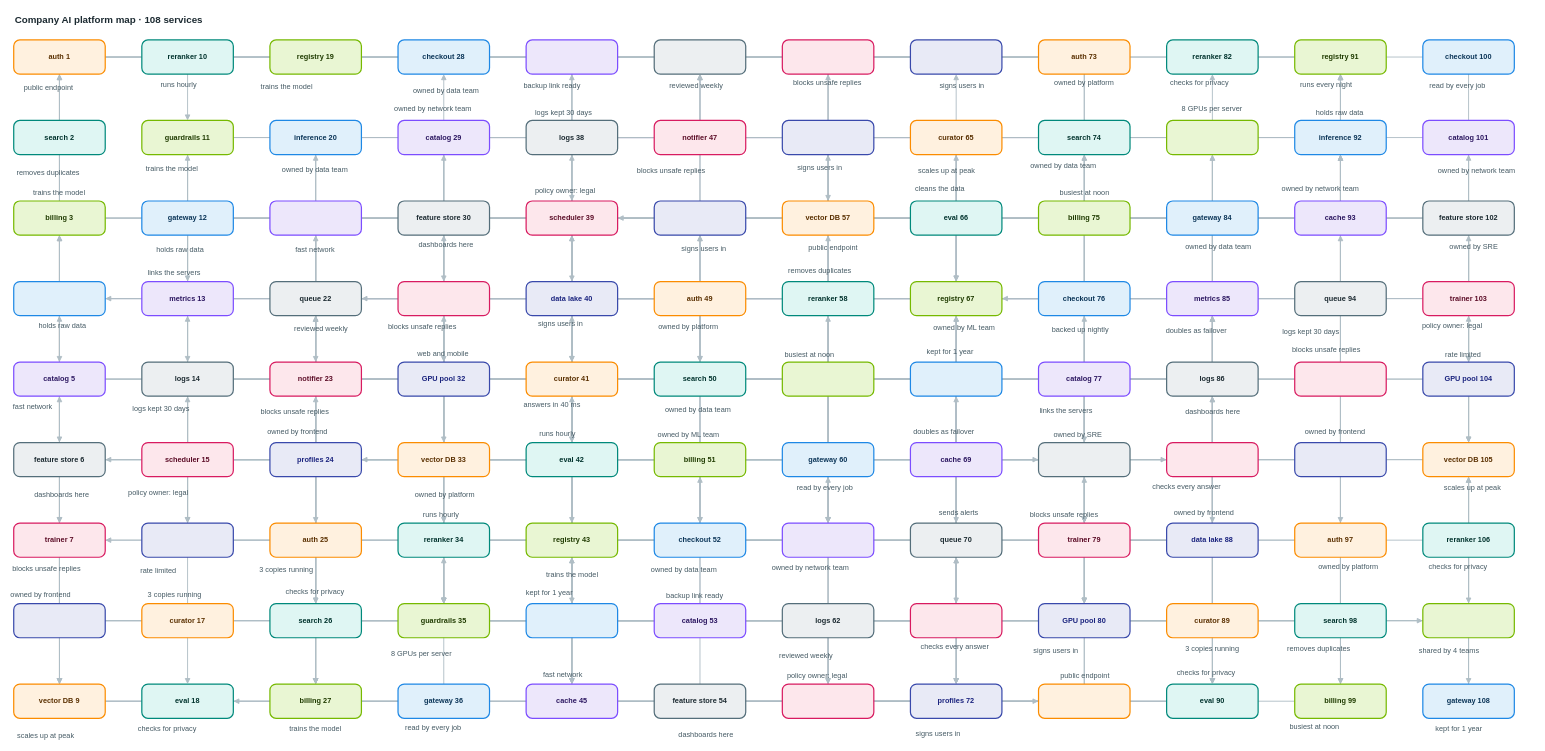
This 1545x751 diagram has some shape labels left out. The shapes that lost their labels are listed below. From the top down, each one's centre as x and y in pixels, then its label:
point 571,56: metrics 37
point 699,56: queue 46
point 827,56: trainer 55
point 956,56: data lake 64
point 827,137: GPU pool 56
point 1212,137: guardrails 83
point 315,217: cache 21
point 699,217: profiles 48
point 59,298: checkout 4
point 443,298: trainer 31
point 827,378: guardrails 59
point 956,378: inference 68
point 1340,378: notifier 95
point 1084,459: feature store 78
point 1212,459: scheduler 87
point 1340,459: profiles 96
point 187,540: data lake 16
point 827,540: metrics 61
point 59,620: GPU pool 8
point 571,620: inference 44
point 956,620: notifier 71
point 1468,620: guardrails 107
point 827,701: scheduler 63
point 1084,701: vector DB 81
